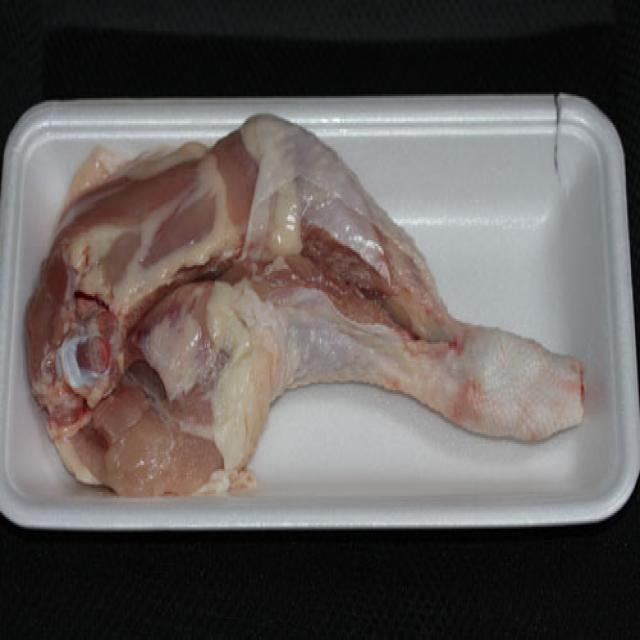chicken: (0, 94, 640, 540)
